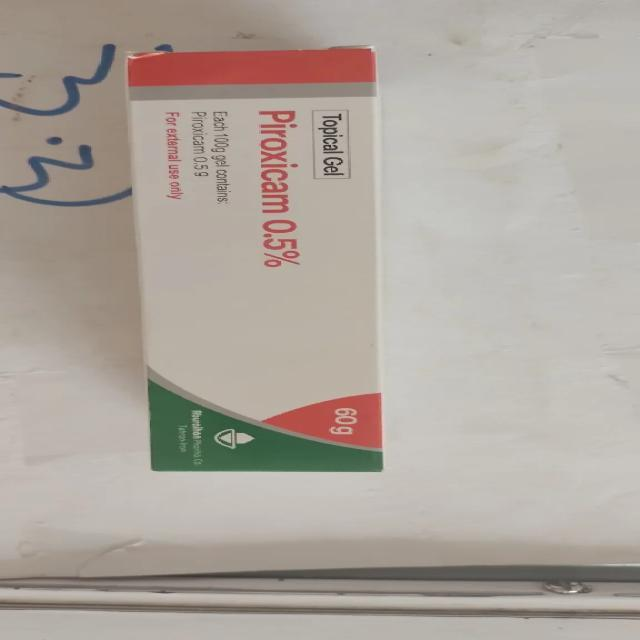drug-name: (258, 102, 300, 272)
